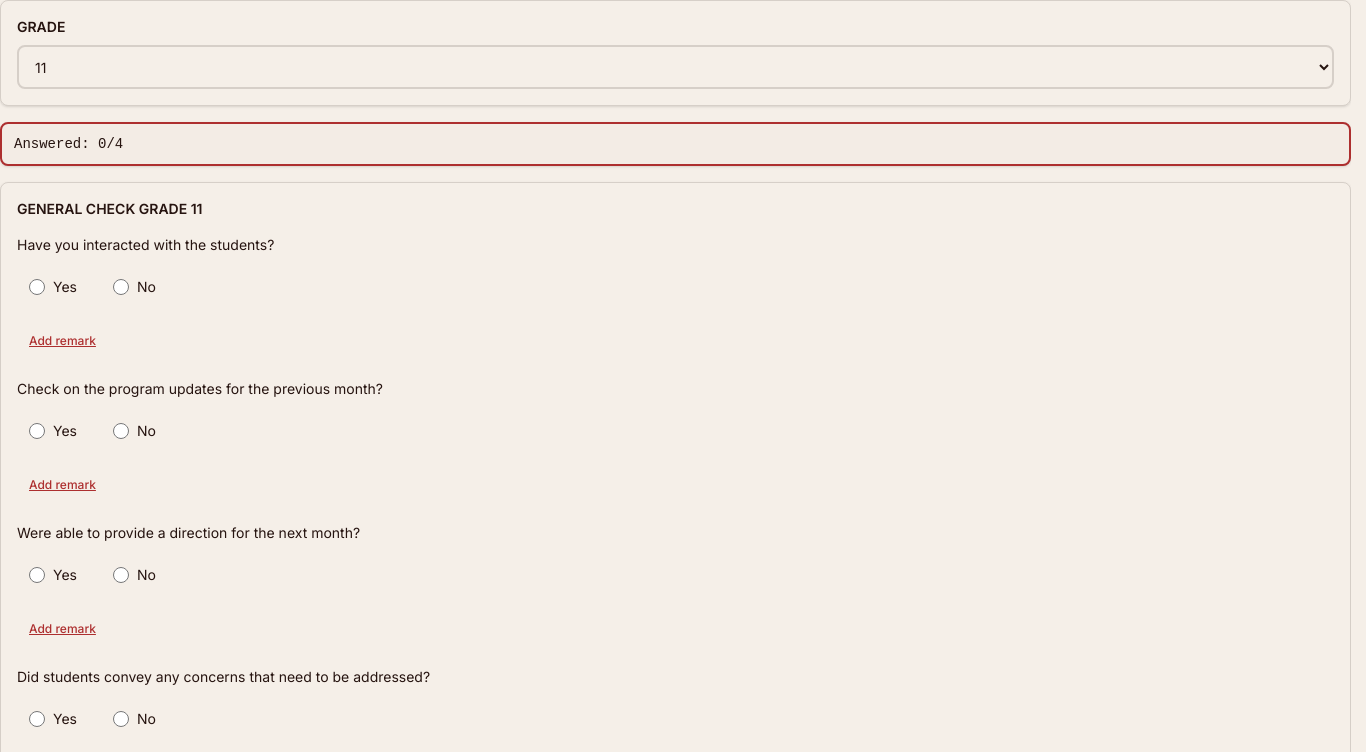
Test case: GroupStudentDiscussionForm › interactions › clicking Yes radio checks it and updates progress
Click the radio button with test id "group-student-gc_interacted-yes". click: point(37, 287)
box: [29, 279, 45, 295]
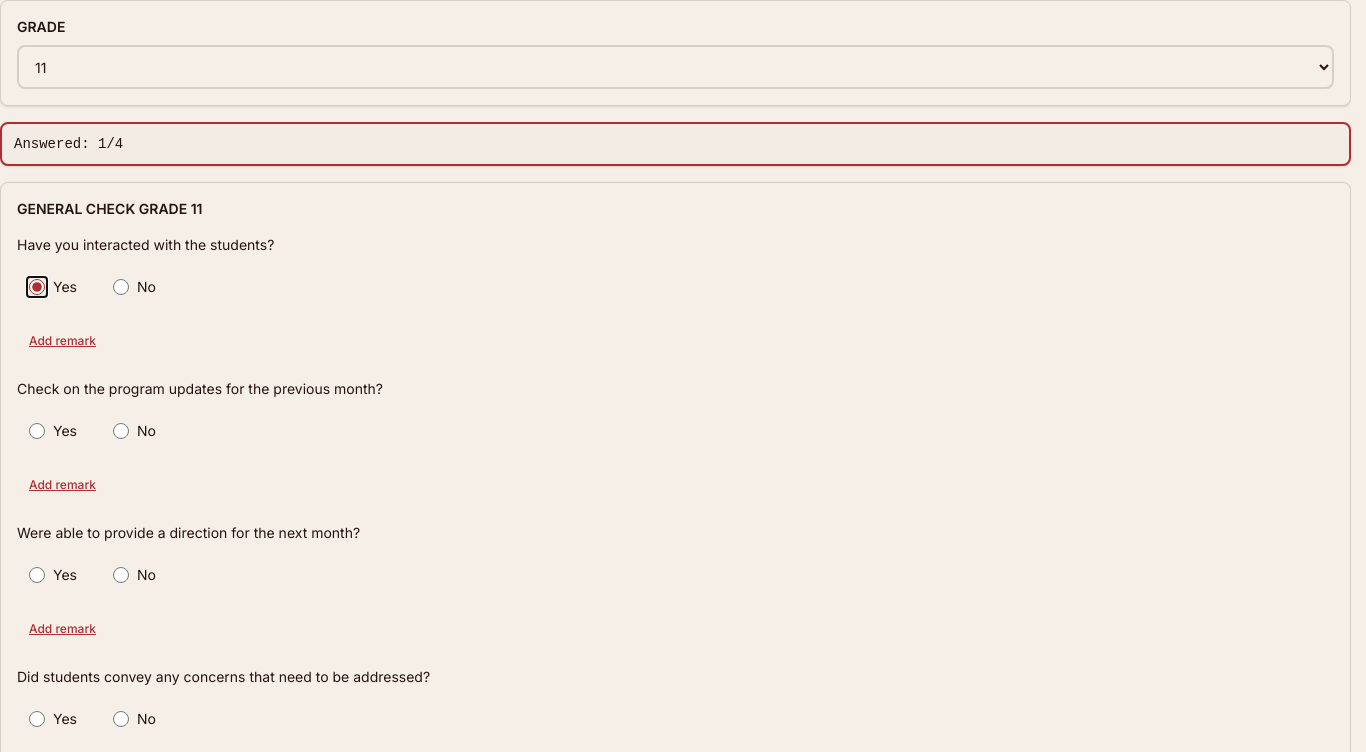
Expected: the radio button with test id "group-student-gc_interacted-no" is not checked, [113, 279, 129, 295]
Now the radio button with test id "group-student-gc_interacted-yes" is checked, box [29, 279, 45, 295]
Now the element with test id "group-student-discussion-progress" reads "Answered: 1/4", box [0, 122, 1351, 166]
